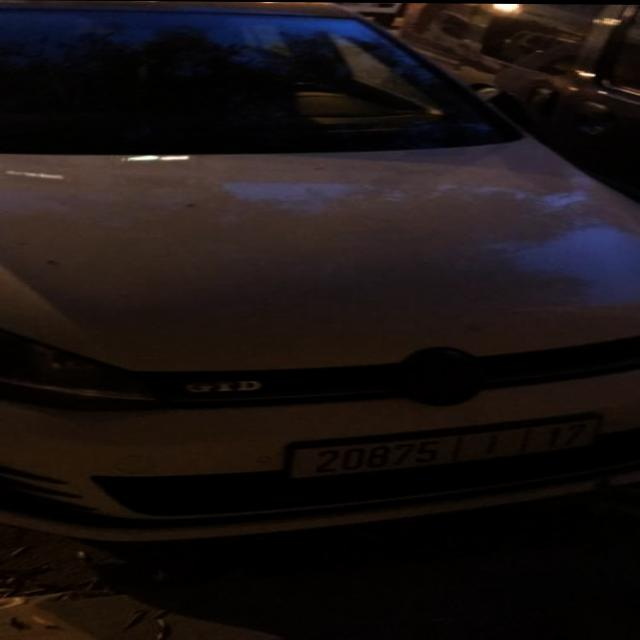License-Plate: (289, 418, 600, 478)
